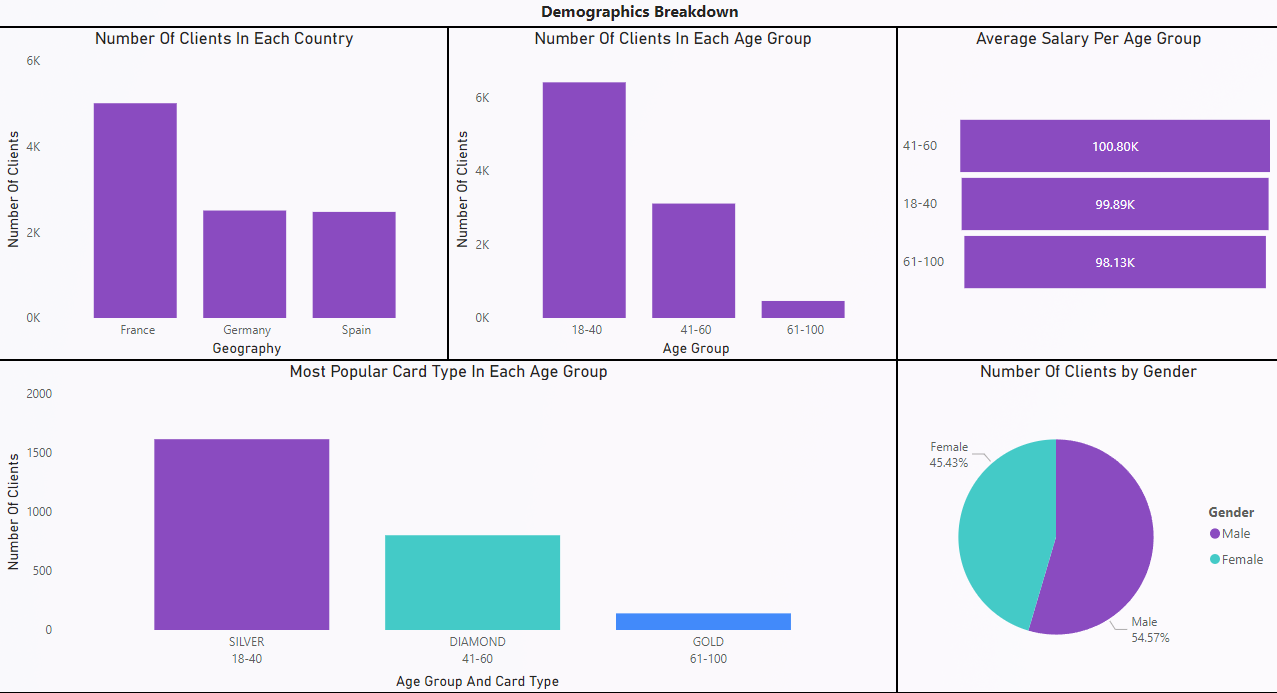

The page's visual inventory and layout, read from the dashboard file:
{"tool":"powerbi","page":{"name":"Demographics","canvas":[1280,720],"ordinal":0},"visuals":[{"type":"columnChart","title":"Number Of Clients In Each Country","fields":{"Category":["store_sales no_of_clients_in_each_country.Geography"],"Y":["Sum(store_sales no_of_clients_in_each_country.Number Of Clients In Each Country)"]},"box":[0,54,449,333],"z":0,"group":"g1"},{"type":"columnChart","title":"Number Of Clients In Each Age Group","fields":{"Category":["store_sales age_and_product.age_group"],"Y":["Sum(store_sales age_and_product.count)"]},"box":[449,54,449,333],"z":0},{"type":"textbox","box":[0,0,1280,54],"z":1000},{"type":"group","id":"g1","title":"Group 1","box":[0,54,1280,666],"z":2000},{"type":"columnChart","title":"Most Popular Card Type In Each Age Group","fields":{"Category":["store_sales age_and_product.age_group","store_sales age_and_product.card_type"],"Series":["store_sales age_and_product.card_type"],"Y":["Sum(store_sales age_and_product.count)"]},"box":[0,387,898,333],"z":2000,"group":"g1"},{"type":"funnel","title":"Average Salary Per Age Group","fields":{"Category":["store_sales avg_estimated_salary_per_age_group.age_group"],"Y":["Sum(store_sales avg_estimated_salary_per_age_group.estimated salary)"]},"box":[898,54,382,333],"z":3000,"group":"g1"},{"type":"pieChart","fields":{"Category":["store_sales gender_breakdown_of_customer_base.Gender"],"Y":["Sum(store_sales gender_breakdown_of_customer_base.COUNT(*))"]},"box":[898,387,382,333],"z":4000,"group":"g1"}]}

Visuals, with their boxes on the page's 1280x720 design canvas (x1, y1, x2, y2). These are canvas units, not pixel positions in the 1277x693 screenshot, which may show the page scaled, cropped or inside an application window:
"Number Of Clients In Each Country" columnChart: Rect(0, 54, 449, 387)
"Number Of Clients In Each Age Group" columnChart: Rect(449, 54, 898, 387)
textbox: Rect(0, 0, 1280, 54)
"Group 1" group: Rect(0, 54, 1280, 720)
"Most Popular Card Type In Each Age Group" columnChart: Rect(0, 387, 898, 720)
"Average Salary Per Age Group" funnel: Rect(898, 54, 1280, 387)
pieChart - store_sales gender_breakdown_of_customer_base.Gender x Sum(store_sales gender_breakdown_of_customer_base.COUNT(*)): Rect(898, 387, 1280, 720)
